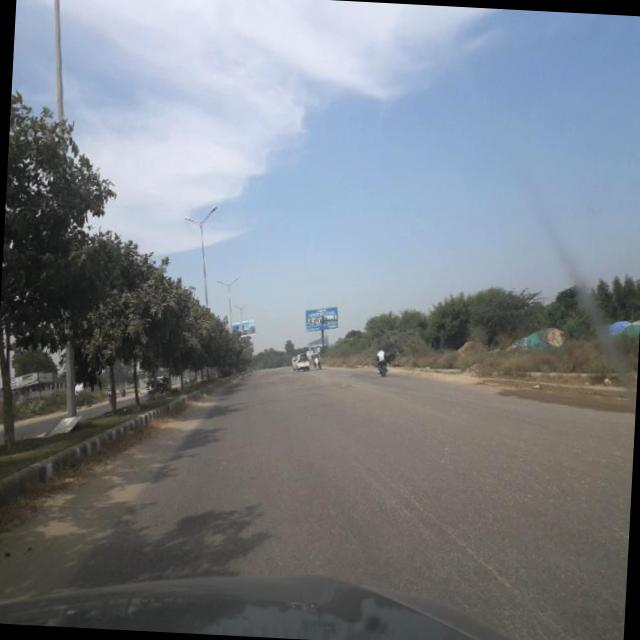crack: (301, 440, 625, 640), (335, 425, 592, 640)
